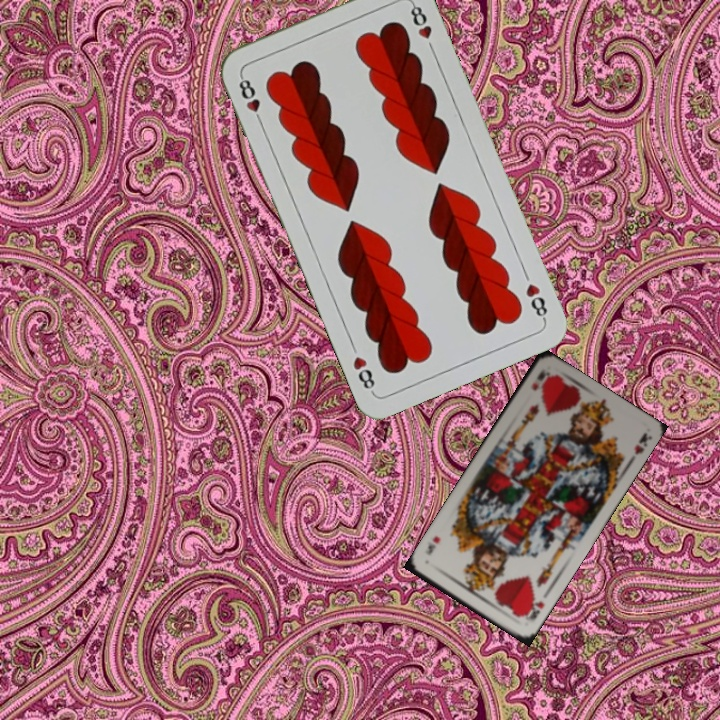H8: (234, 71, 266, 127), (521, 279, 550, 324)
HK: (519, 594, 547, 622), (527, 366, 552, 393)
